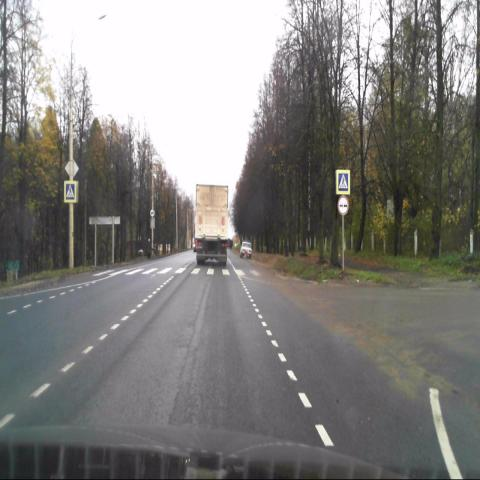5_19_1: (64, 181, 77, 201)
